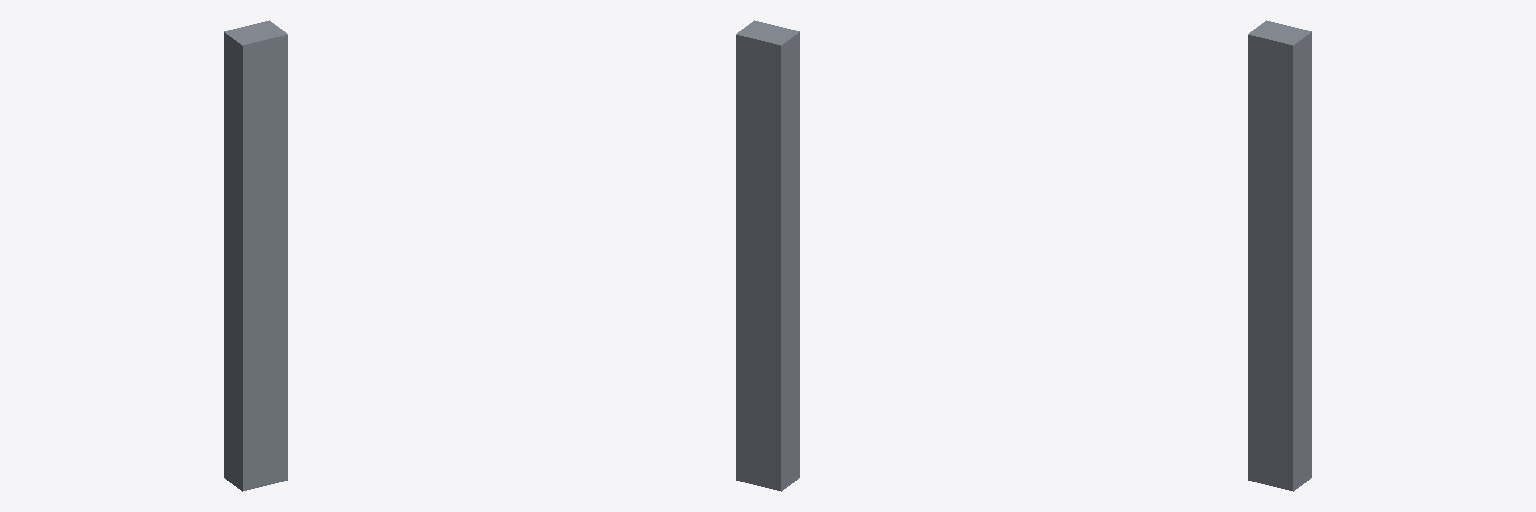
robot.urdf — artmanip_knife_000:
<?xml version='1.0' encoding='utf-8'?>
<robot name="artmanip_knife_000"><link name="link_0"><inertial><mass value="0.020362654320987654" /><inertia ixx="2.8847093621399177e-05" iyy="2.9009994855967084e-05" izz="5.022788065843621e-07" ixy="0" ixz="0" iyz="0" /></inertial><visual><geometry><box size="0.014 0.01 0.13" /></geometry><material name="link_0_color"><color rgba=".58 .60 .64 1" /></material></visual><collision><geometry><box size="0.014 0.01 0.13" /></geometry></collision></link><link name="link_1"><inertial><mass value="0.006" /><inertia ixx="4.545e-07" iyy="5e-07" izz="5.45e-08" ixy="0" ixz="0" iyz="0" /></inertial><visual><geometry><mesh filename="slider-shoulder.obj" /></geometry><material name="link_1_color"><color rgba=".12 .13 .15 1" /></material></visual><collision><geometry><mesh filename="slider-shoulder.obj" /></geometry></collision></link><joint name="slider" type="prismatic"><parent link="link_0" /><child link="link_1" /><origin xyz="-0.0008401235303187085 0.0065 0.013096292039370041" /><axis xyz="0 0 1" /><limit lower="-0.03267458688196273" upper="0.017325413118037272" effort="100" velocity="1" /><dynamics damping="1000" friction="0.001" /></joint></robot>

--- What the picture shows (computed from the rendered views, not written in the file) ---
The picture shows the robot from 3 angles, left to right: view 1: azimuth 30°, elevation 25°; view 2: azimuth 150°, elevation 25°; view 3: azimuth 330°, elevation 25°; orthographic projection.
Robot: artmanip_knife_000 — 2 links, 1 joints (1 prismatic); root link link_0; default pose: all joints at 0.
Links seen in each view (by area): view 1: link_0; view 2: link_0; view 3: link_0.
Boxes of the visible links, bbox=[...] form: link_0: bbox=[224, 20, 287, 491]; link_0: bbox=[736, 20, 799, 491]; link_0: bbox=[1248, 20, 1311, 491].
Bounding box of the posed robot: 0.014 × 0.01 × 0.13 m (x, y, z).
Meshes: 1 distinct files referenced, 0 mesh visuals loaded (none loaded); not drawn: 1 (reference not matched to a file when rendering).
